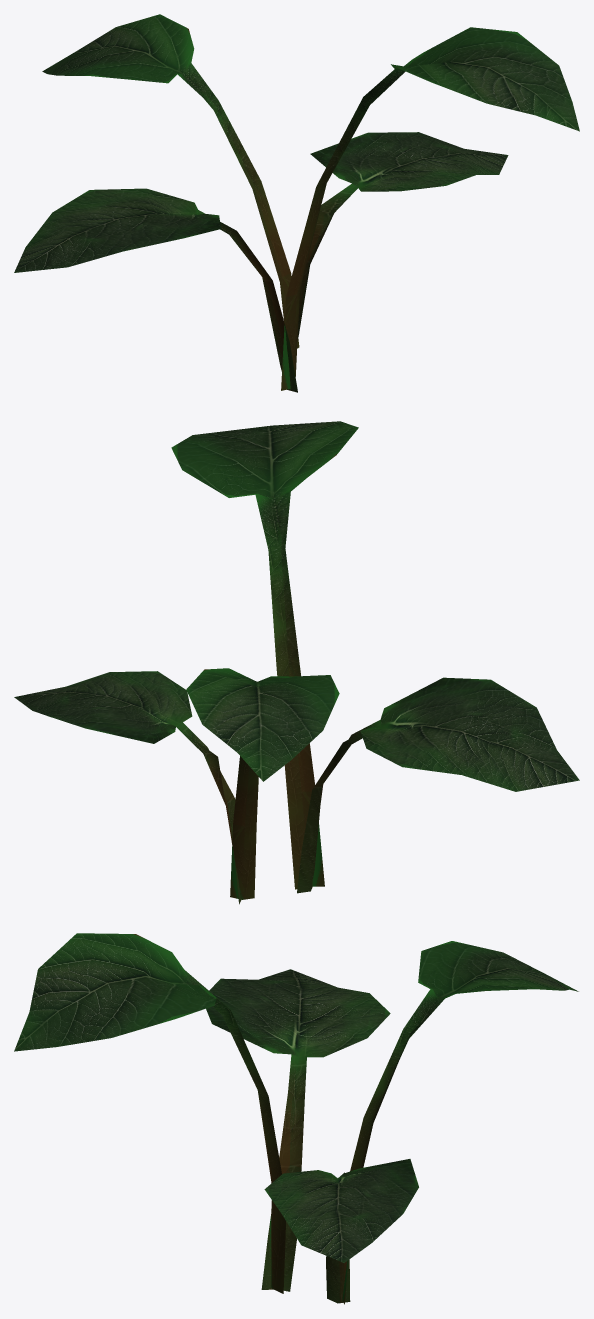
File: herbleaves.glb
3 renders of one model, top to bottom at view 1: azimuth 30°, elevation 25°; view 2: azimuth 150°, elevation 25°; view 3: azimuth 270°, elevation 25°, orthographic. The views are drawn at different scales.
Visible parts, largest first — view 1: Plane; view 2: Plane; view 3: Plane.
Boxes of the visible parts, box(x1,y1,x2,y2) form: Plane: box(14, 14, 579, 392); Plane: box(14, 421, 579, 904); Plane: box(14, 933, 578, 1304).
Size of the model in its own units: 1.47 by 0.988 by 1.33.
1 material, 1 textured.
